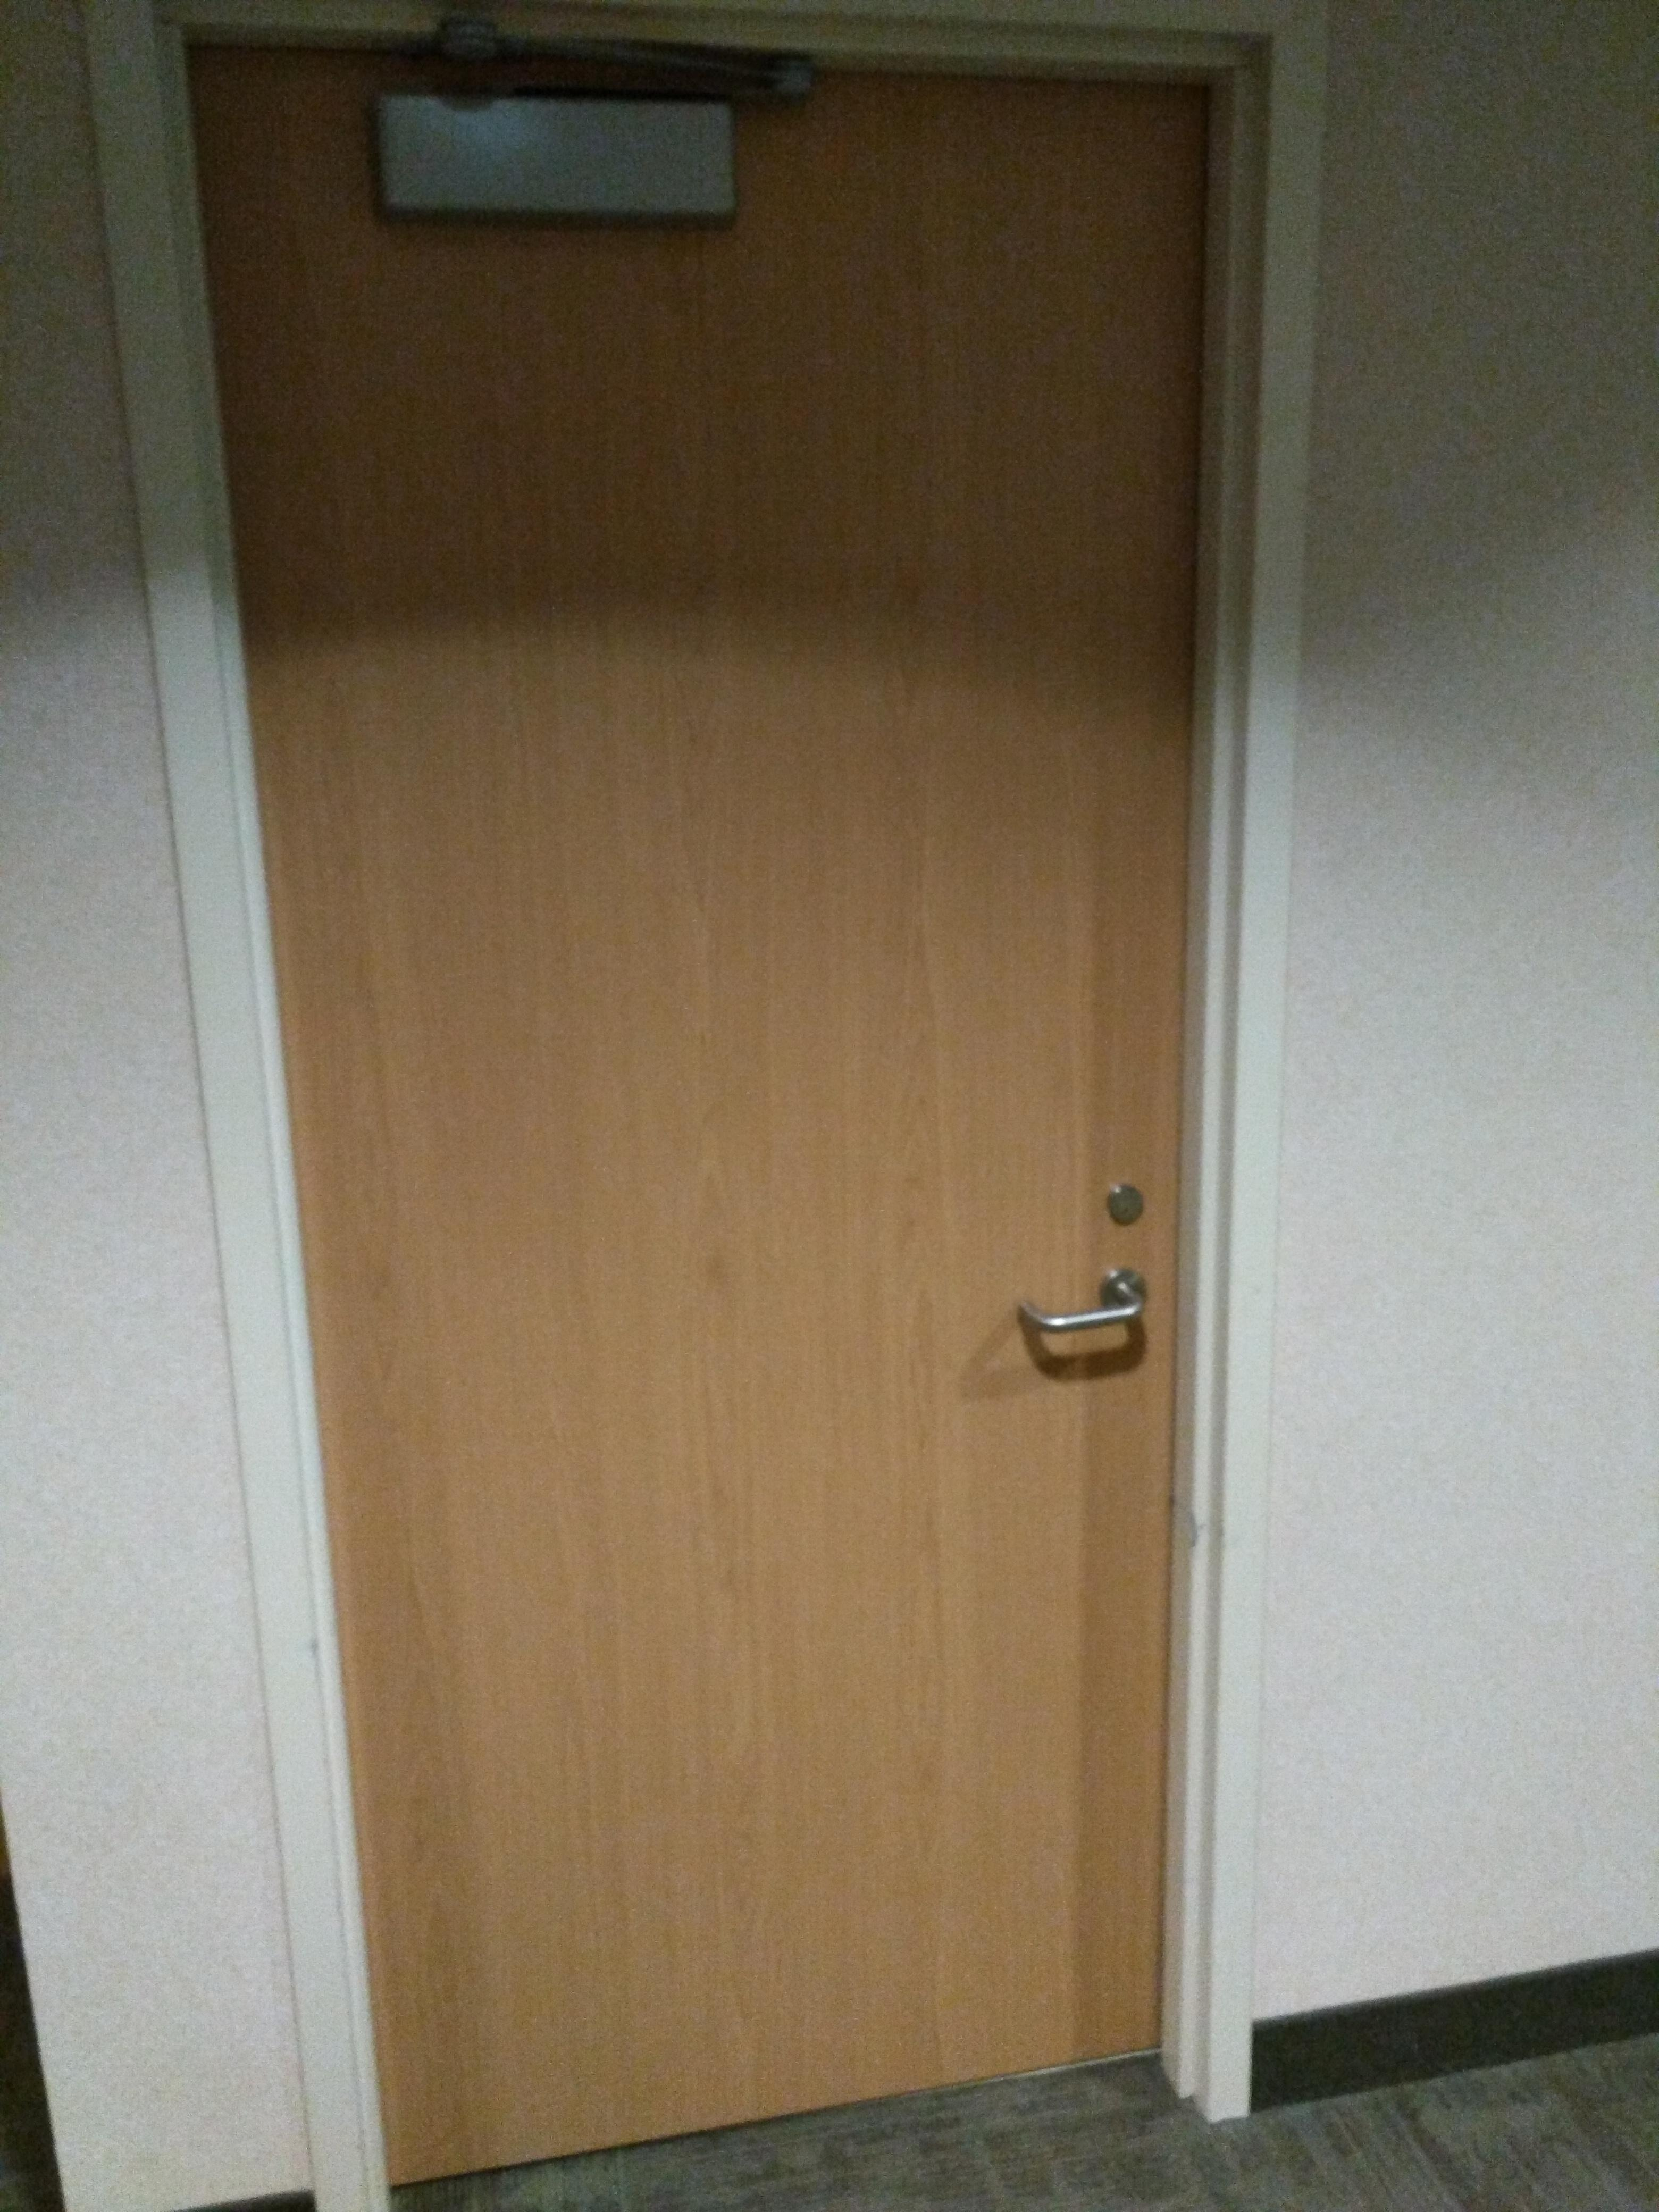door: (143, 3, 1225, 2132)
